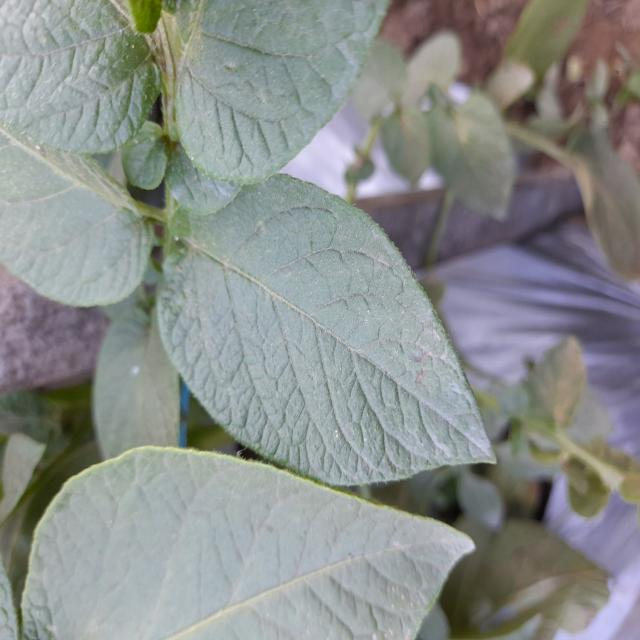healthy: (152, 171, 498, 489)
